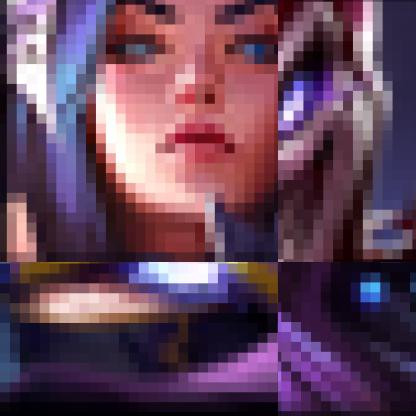Irelia: (0, 0, 277, 261)
Jax: (278, 262, 415, 415)
Kennen: (0, 262, 277, 415)
Shaco: (278, 0, 415, 261)
